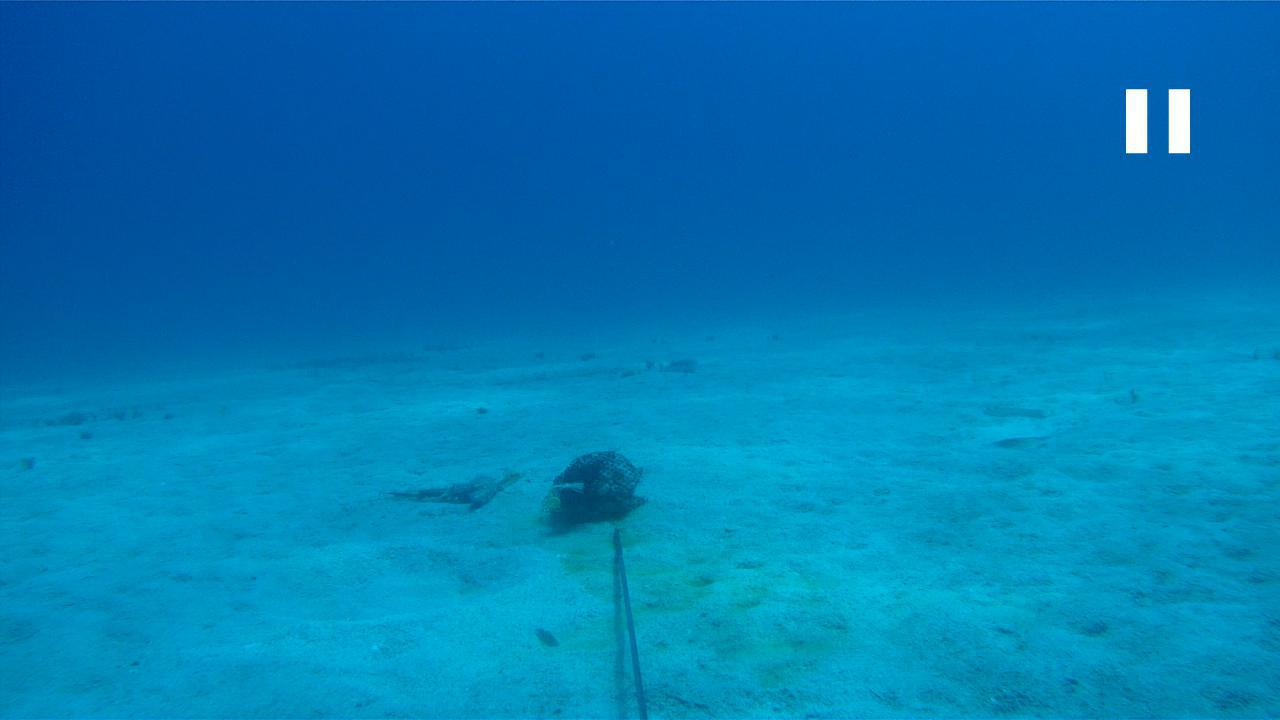bothus: (977, 401, 1046, 423)
